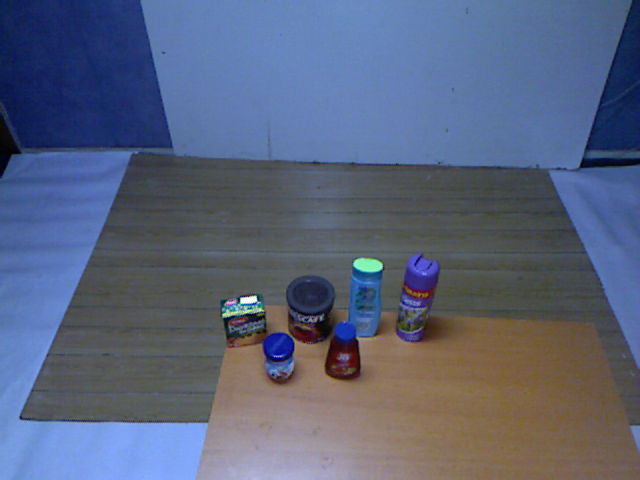aerosol: (393, 252, 442, 349)
balsamo: (344, 256, 389, 344)
cafe: (284, 276, 337, 346)
crema: (261, 329, 301, 388)
durazno: (217, 290, 270, 349)
ketchup: (323, 319, 364, 384)
